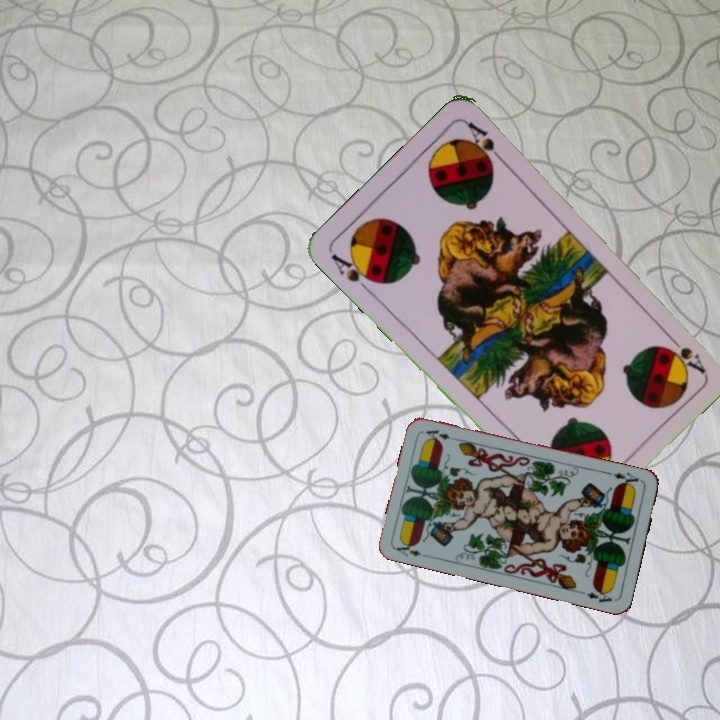EA: (604, 468, 641, 490), (392, 537, 423, 559)
SA: (327, 249, 381, 296), (662, 329, 708, 377)
